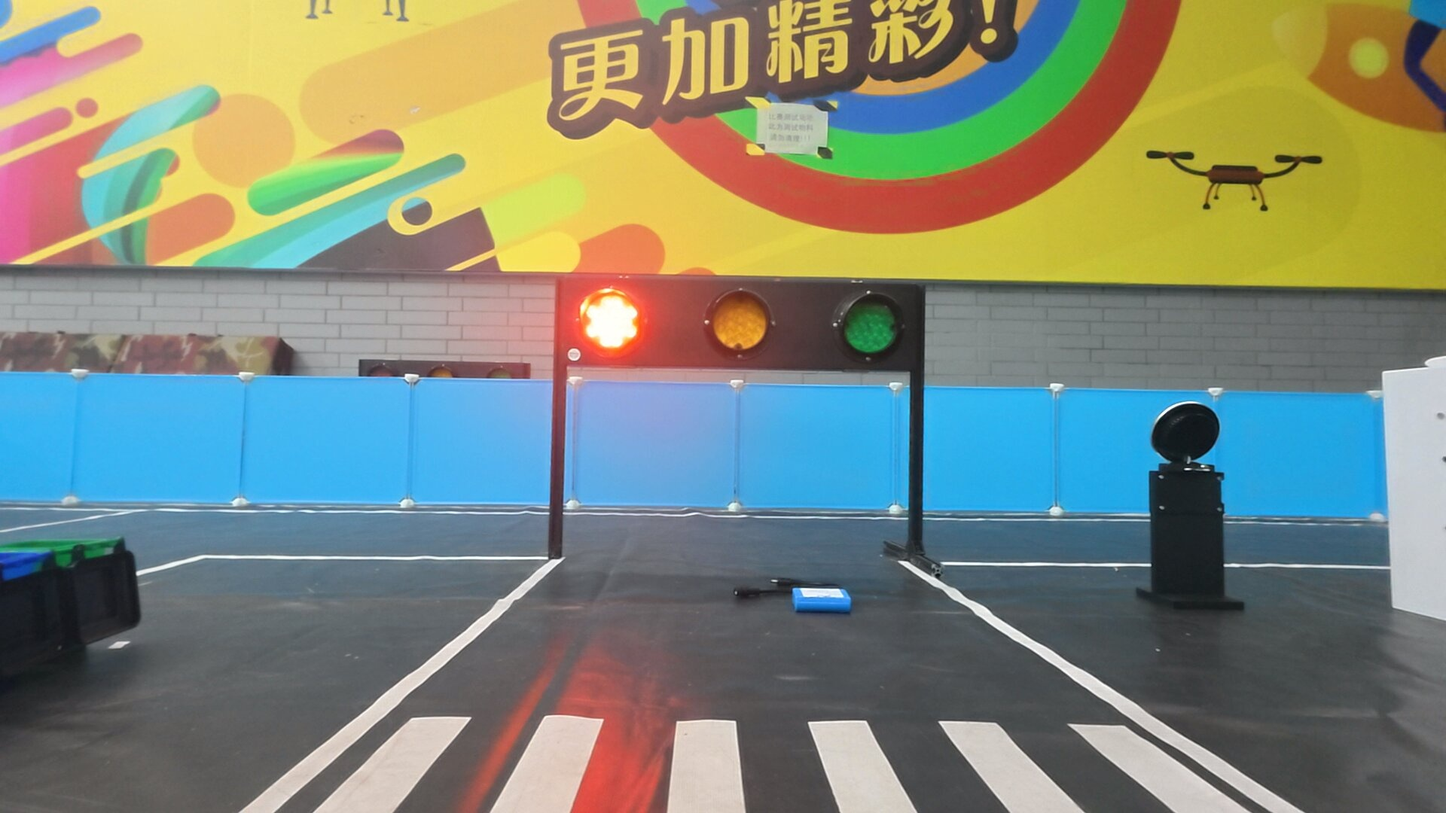stop: (578, 285, 646, 355)
